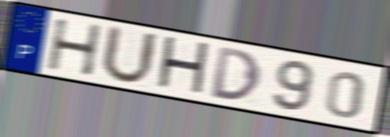0: (323, 70, 371, 119)
9: (269, 58, 317, 115)
D: (210, 44, 263, 103)
H: (154, 34, 212, 100), (46, 17, 105, 79)
U: (98, 23, 161, 87)
